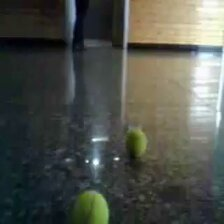tennis: (69, 190, 110, 224), (125, 130, 147, 158)
